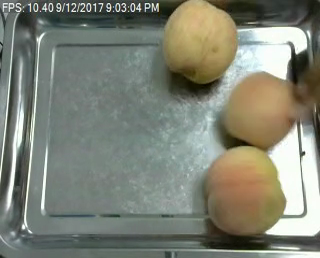Peach: (202, 145, 286, 236), (163, 0, 238, 84), (223, 70, 295, 148)
